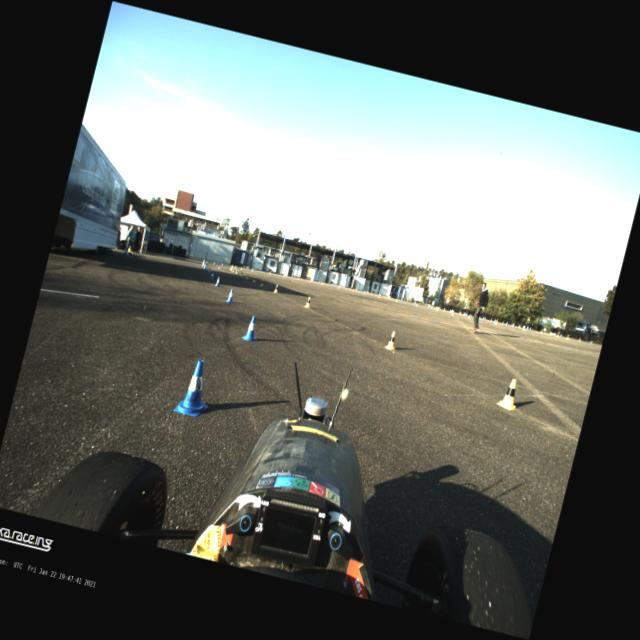blue_cone: (172, 356, 218, 418), (240, 313, 263, 343), (224, 288, 236, 304), (214, 275, 222, 287), (208, 270, 214, 280), (206, 267, 212, 275), (204, 264, 208, 272), (511, 322, 515, 328), (492, 318, 496, 323), (505, 320, 508, 326), (526, 326, 530, 330), (464, 312, 467, 317), (202, 264, 205, 269), (212, 261, 215, 265), (450, 308, 452, 314), (427, 304, 430, 308), (202, 262, 204, 267), (590, 339, 592, 344), (484, 316, 486, 321), (205, 260, 207, 264), (300, 276, 302, 280), (282, 274, 284, 278), (332, 283, 334, 287), (349, 287, 351, 291), (363, 289, 365, 293), (400, 298, 402, 302), (413, 300, 415, 304), (430, 304, 432, 308), (482, 316, 484, 320), (529, 326, 531, 330), (560, 333, 562, 337), (502, 320, 504, 324), (318, 280, 320, 284), (221, 262, 223, 266), (438, 306, 440, 310), (469, 314, 472, 316), (388, 296, 390, 299)
large_orange_cone: (200, 258, 204, 266)
yellow_cone: (496, 376, 524, 412), (383, 329, 398, 351), (304, 295, 314, 309), (272, 283, 280, 294), (564, 333, 570, 340), (260, 278, 264, 286), (252, 276, 256, 282), (246, 272, 250, 278), (539, 328, 543, 334), (555, 332, 559, 338), (577, 336, 581, 342), (234, 269, 238, 274), (414, 302, 418, 307), (493, 320, 498, 324), (522, 326, 526, 330), (240, 271, 243, 276), (451, 310, 454, 315), (233, 265, 236, 270), (232, 266, 234, 272), (229, 266, 232, 270), (395, 298, 398, 302), (436, 306, 438, 312), (517, 324, 520, 328), (489, 318, 492, 322), (364, 290, 366, 295), (240, 266, 242, 270), (352, 288, 354, 292), (338, 284, 340, 288), (378, 294, 380, 298), (468, 314, 470, 318), (458, 310, 460, 314), (251, 268, 253, 272), (478, 316, 481, 318), (320, 282, 322, 285), (296, 277, 298, 280), (444, 308, 446, 310), (442, 308, 444, 310), (309, 280, 311, 282), (269, 272, 271, 274)
